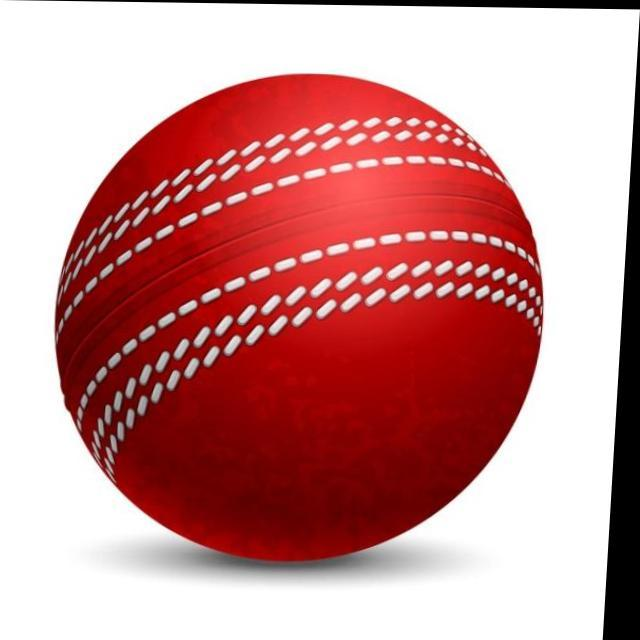cricket ball: (58, 74, 548, 562)
